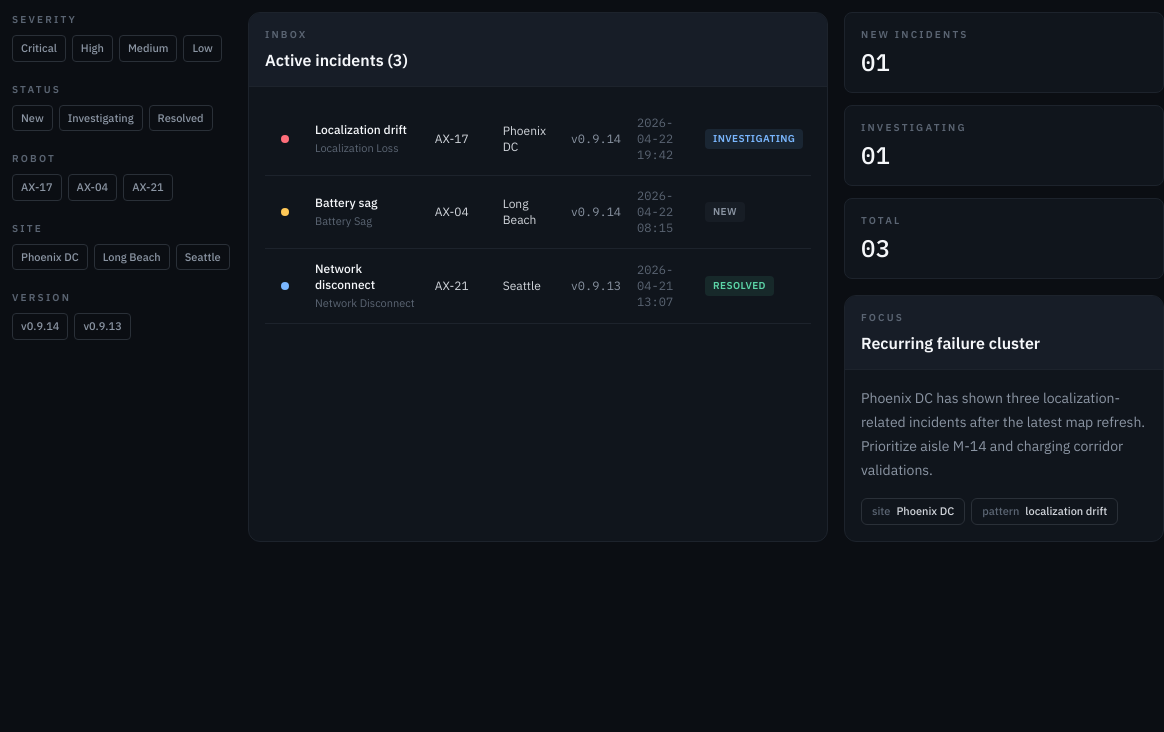
Scenario: InboxBody › filters by severity when a severity pill is toggled
Step 1. Click the button "Critical" → (39, 48), box x1=12 y1=35 x2=66 y2=62
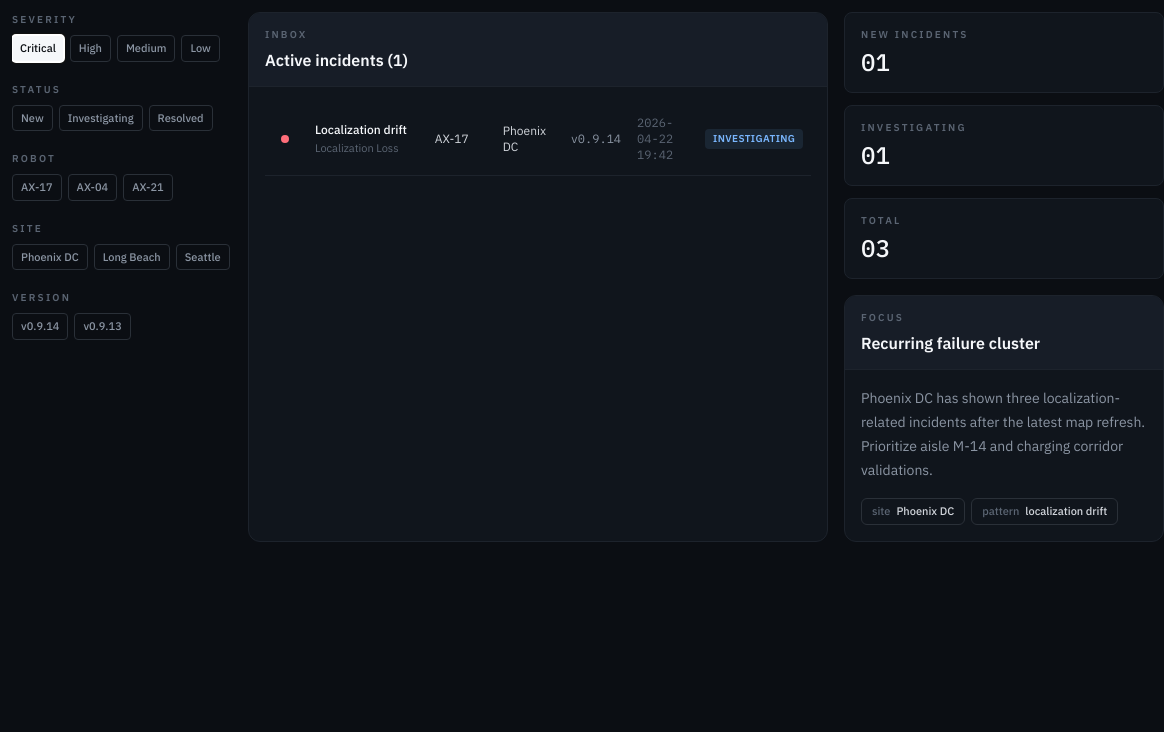
Expected: the text "Localization drift" is shown, x1=315 y1=122 x2=419 y2=138
Now the link "Battery sag" is gone
Now the link "Network disconnect" is gone
